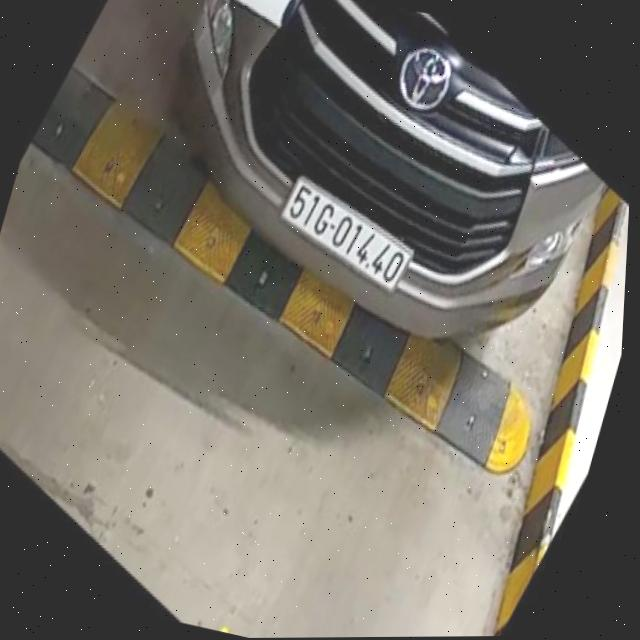car: (87, 0, 638, 375)
plate: (257, 163, 433, 303)
